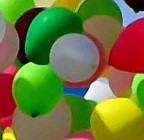Balloon: (24, 8, 82, 61), (13, 61, 61, 115), (49, 33, 100, 82), (90, 98, 144, 140), (12, 104, 72, 140), (110, 17, 144, 73)
